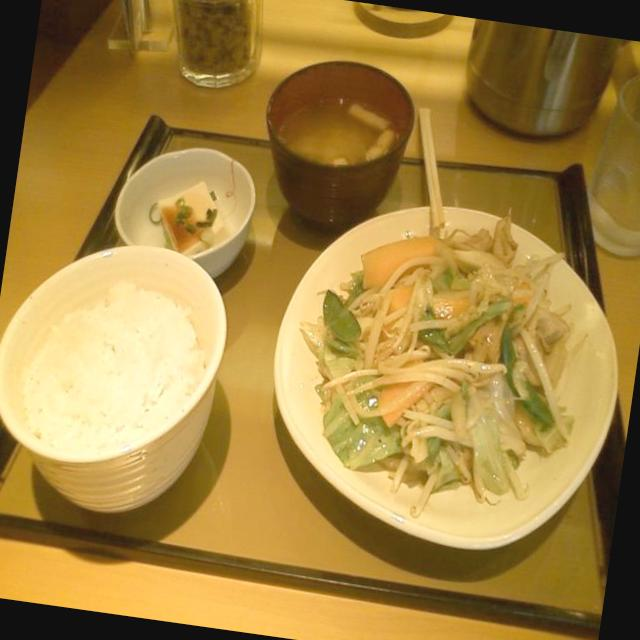Rice: (0, 224, 240, 531)
